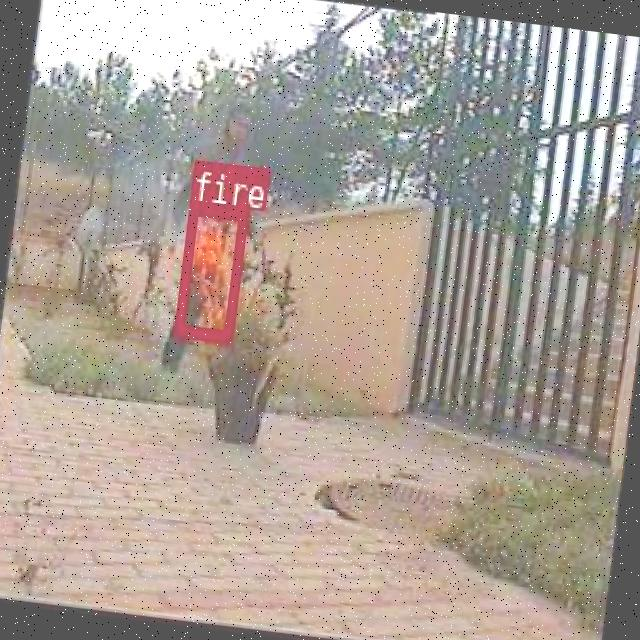fire: (172, 199, 248, 340)
